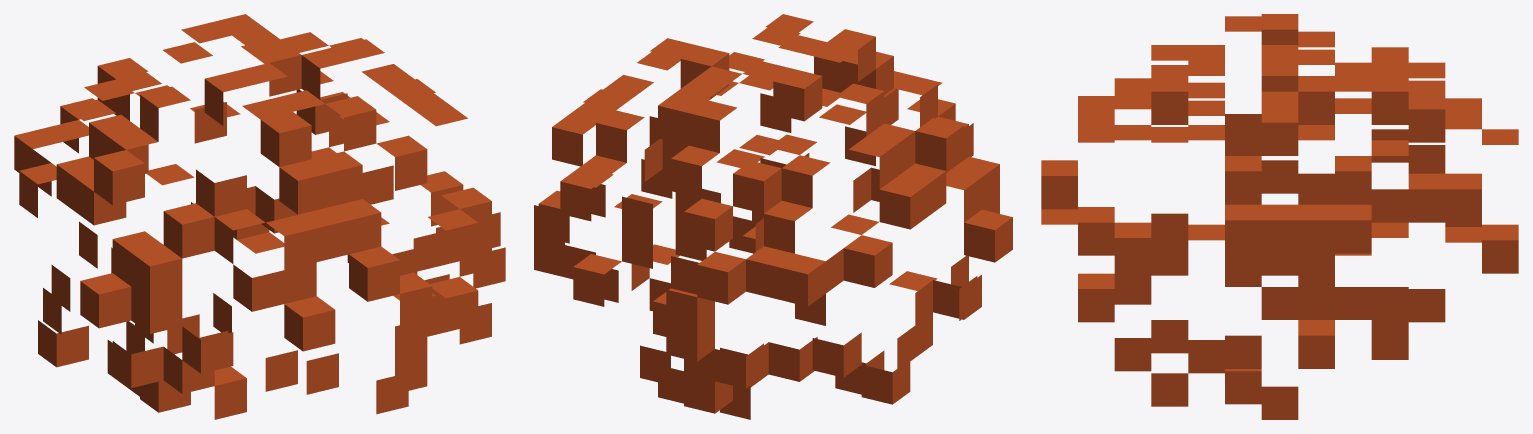
Rendered from tree-maple-1p2-maple-c4501f.gltf.
3 renders of one model, left to right at view 1: azimuth 30°, elevation 25°; view 2: azimuth 150°, elevation 25°; view 3: azimuth 270°, elevation 25°, orthographic. The views are drawn at different scales.
Visible parts, largest first — view 1: tree-maple-1p2-maple-c4501f; view 2: tree-maple-1p2-maple-c4501f; view 3: tree-maple-1p2-maple-c4501f.
Boxes of the visible parts, x1,y1,x2,y2 form: tree-maple-1p2-maple-c4501f: (14,14,505,419); tree-maple-1p2-maple-c4501f: (534,14,1012,419); tree-maple-1p2-maple-c4501f: (1041,14,1518,419).
Size of the model in its own units: 13 by 9 by 13.
